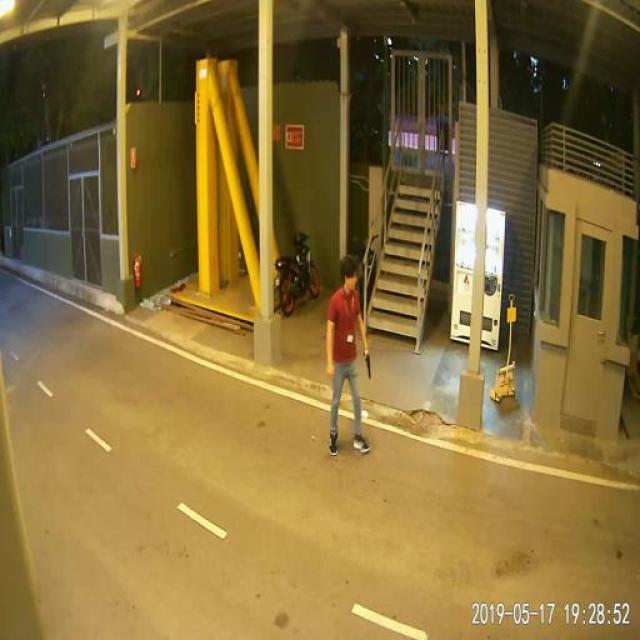Gun: (358, 349, 378, 382)
